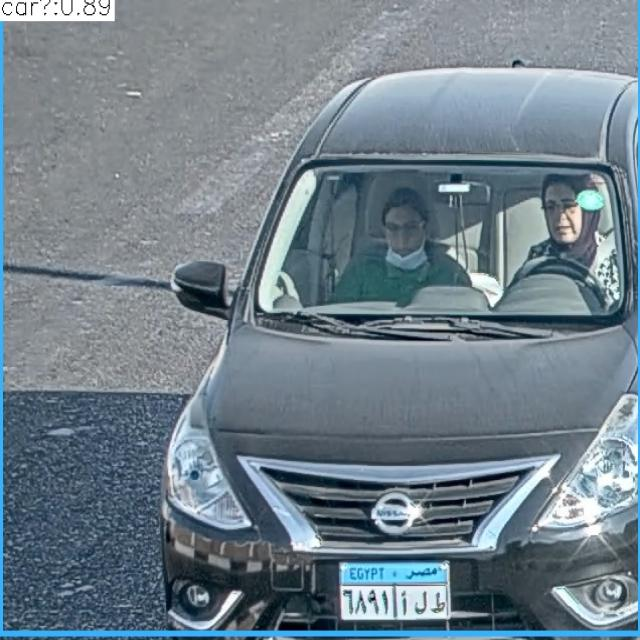windshield: (251, 160, 637, 315)
